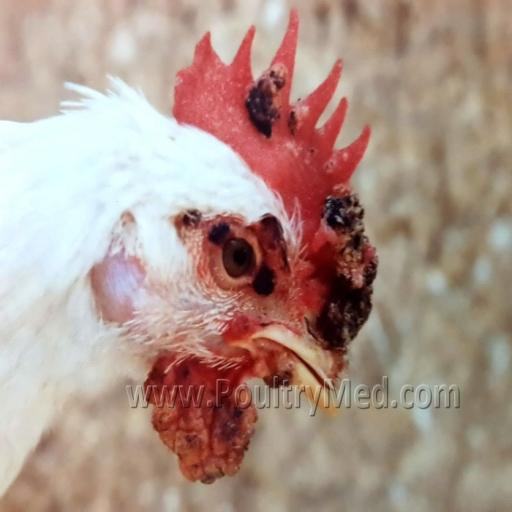disease: (138, 335, 317, 499), (301, 186, 381, 398), (171, 199, 309, 302), (278, 91, 370, 193), (226, 81, 289, 149), (239, 53, 324, 103)
